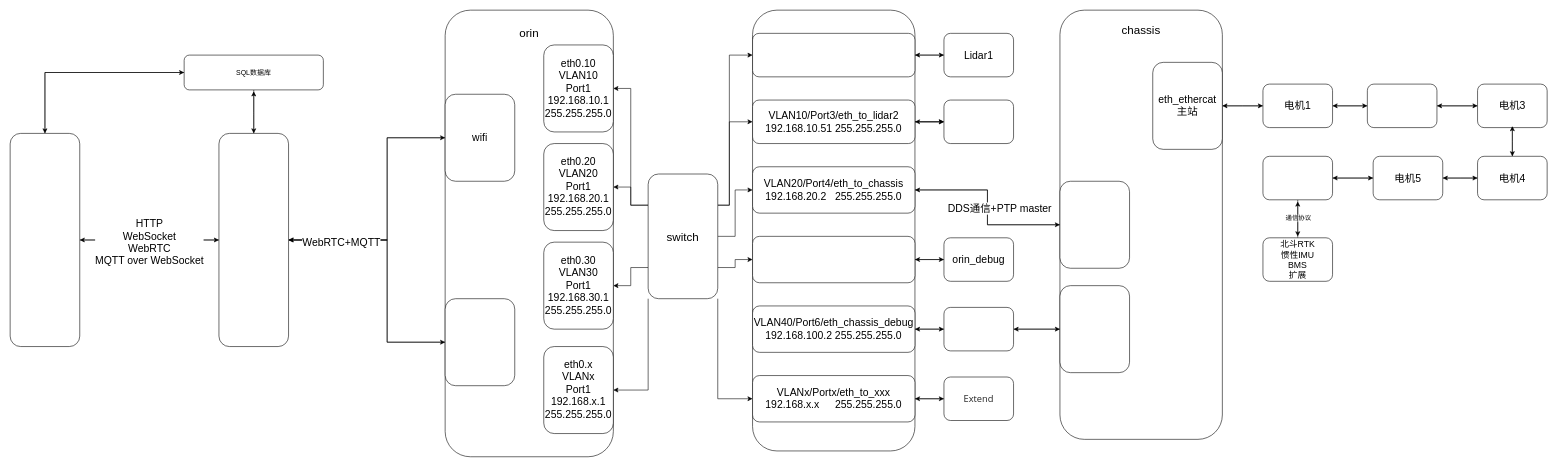
The diagram is 1557 pixels wide and 467 high, and some of its shapes have lost their labels. The box of each missing label's shape, as (x1, y1, x2, y2) in pixels:
5G: (445, 298, 515, 386)
C#/.NET GO 服务器: (218, 133, 289, 347)
chassis_debug: (943, 307, 1014, 351)
eth0.100 VLAN40 Port4 192.168.100.1 255.255.255.0: (1059, 285, 1130, 373)
eth0.20 VLAN20 Port4 192.168.20.2 255.255.255.0: (1059, 181, 1130, 268)
JS客户端: (10, 133, 80, 347)
Lidar2: (943, 99, 1014, 144)
MCU: (1262, 156, 1333, 200)
VLAN10/ Port2/eth_to_lidar1 192.168.10.50 255.255.255.0: (752, 33, 915, 77)
VLAN30/ Port5/eth_orin_debug 192.168.30.2 255.255.255.0: (752, 236, 915, 283)
电机2: (1367, 84, 1437, 128)
